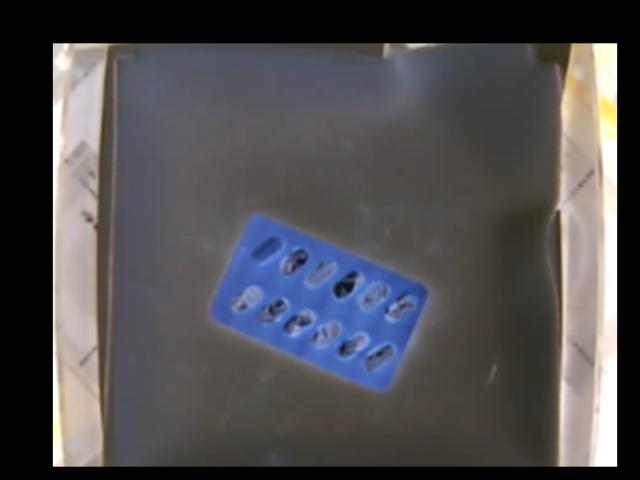Medicine: (211, 217, 426, 391)
